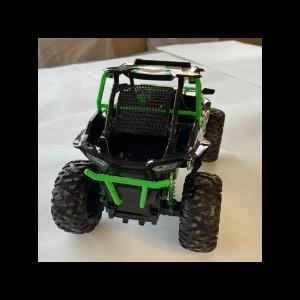polaris: (51, 58, 228, 255)
